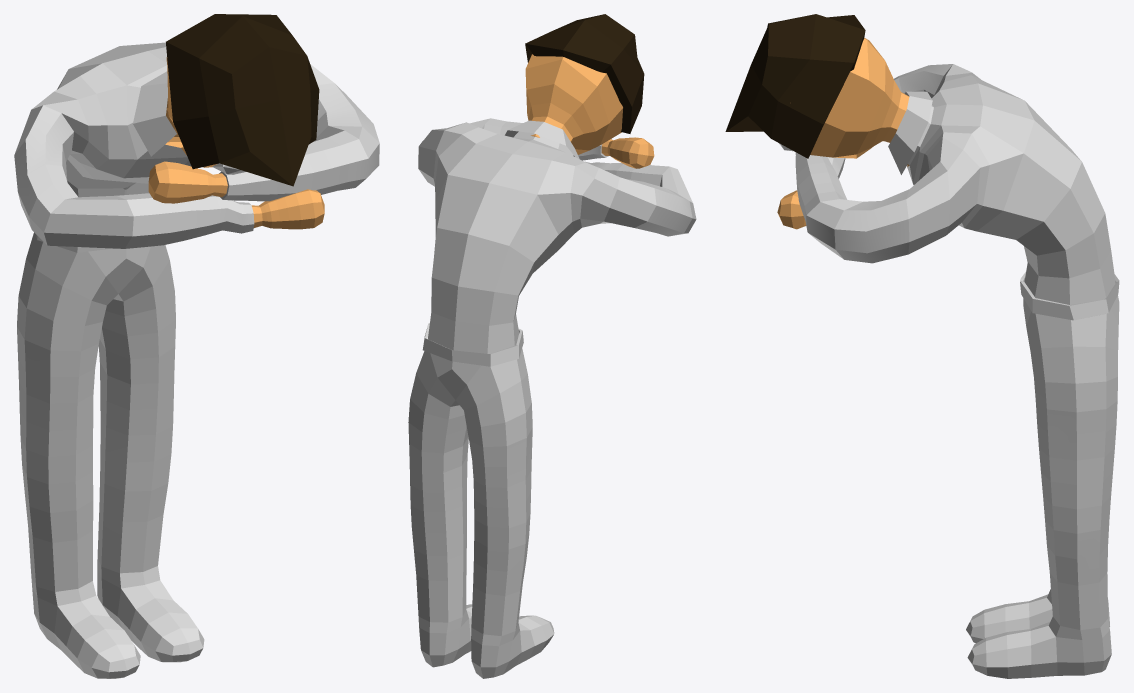
File: tired worker.fbx
The picture shows the model from 3 angles, left to right: view 1: azimuth 30°, elevation 25°; view 2: azimuth 150°, elevation 25°; view 3: azimuth 270°, elevation 25°; orthographic projection. The views are drawn at different scales.
Parts seen in each view (by area): view 1: Vert_005; view 2: Vert_005; view 3: Vert_005.
Part boxes in pixels (left/top/right/bottom): Vert_005: left=14, top=14, right=379, bottom=678; Vert_005: left=408, top=14, right=696, bottom=678; Vert_005: left=725, top=14, right=1119, bottom=678.
Bounding box in the file's own units: 380 × 788 × 434.
